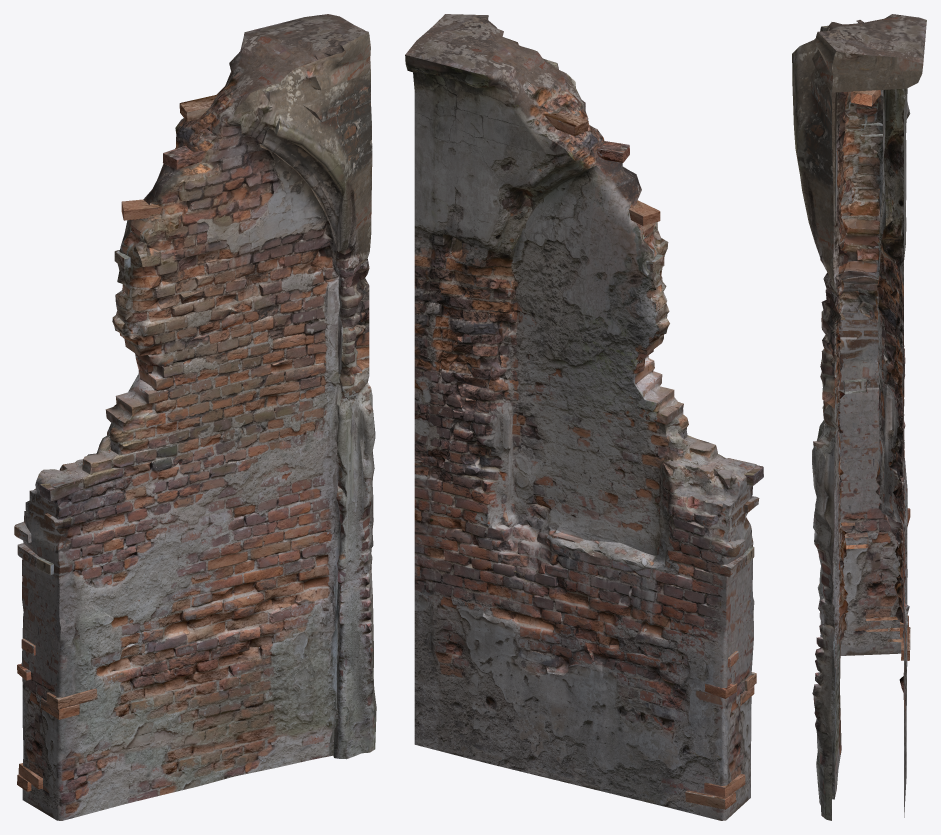
The model's file is SM_ChapelWall_01_10.fbx.
The picture shows the model from 3 angles, left to right: view 1: azimuth 30°, elevation 25°; view 2: azimuth 150°, elevation 25°; view 3: azimuth 270°, elevation 25°; orthographic projection. The views are drawn at different scales.
Parts seen in each view (by area): view 1: sm_ChapelWall_01_10_LOD0; view 2: sm_ChapelWall_01_10_LOD0; view 3: sm_ChapelWall_01_10_LOD0.
Part boxes in pixels (left/top/right/bottom): sm_ChapelWall_01_10_LOD0: left=14, top=14, right=376, bottom=820; sm_ChapelWall_01_10_LOD0: left=405, top=14, right=763, bottom=820; sm_ChapelWall_01_10_LOD0: left=792, top=14, right=926, bottom=820.
Bounding box in the file's own units: 90.62 × 274 × 570.
